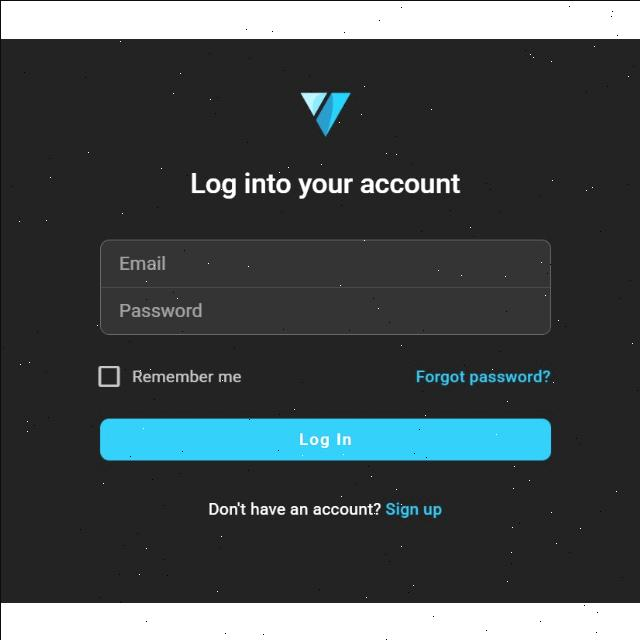QLabel: (184, 170, 460, 200), (205, 500, 381, 516), (413, 368, 552, 384), (132, 368, 242, 382), (296, 430, 350, 450), (385, 502, 441, 518)
VBtn: (98, 417, 552, 461)
VCheckbox: (96, 364, 120, 386)
VImg: (296, 89, 352, 137)
VTextField: (98, 238, 550, 288), (99, 290, 552, 334)
